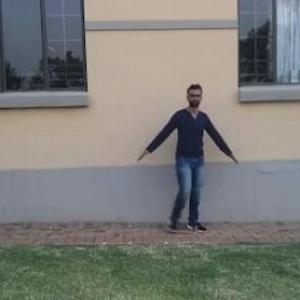land: (131, 90, 233, 246)
